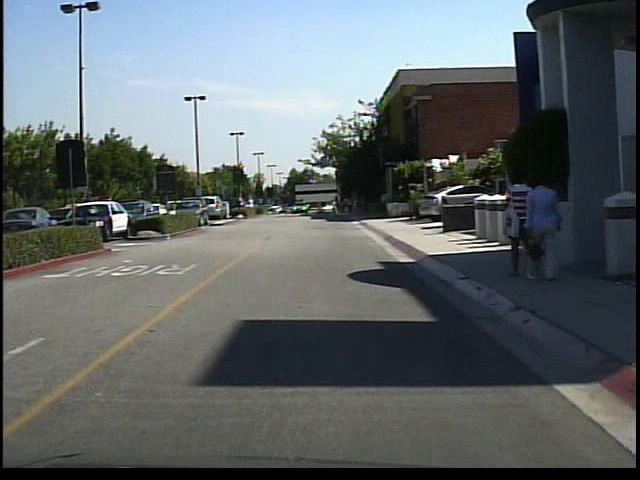person: (521, 168, 565, 282), (503, 164, 532, 282), (243, 192, 259, 220), (330, 195, 341, 220)
